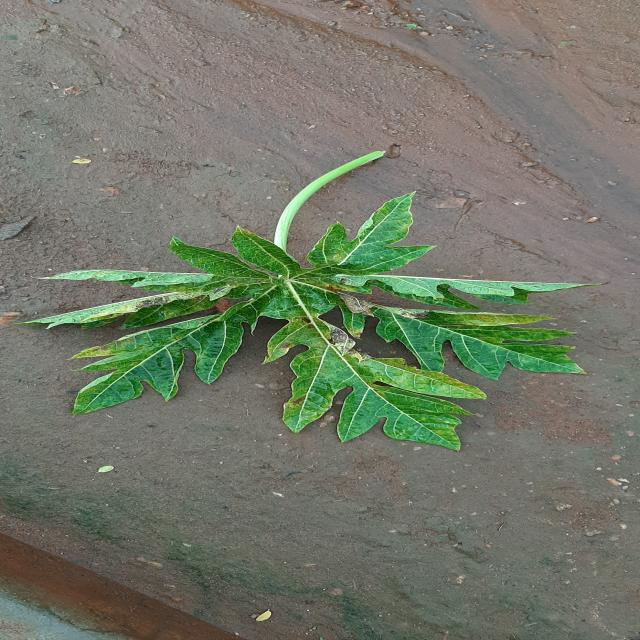papaya: (24, 151, 583, 449)
